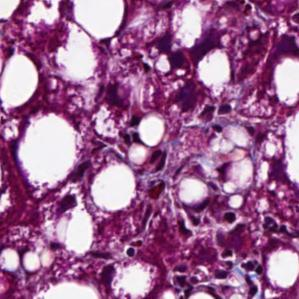inflammation: (93, 72, 143, 130), (213, 198, 257, 248)
